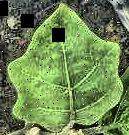HEALTHY: (0, 1, 129, 135)
